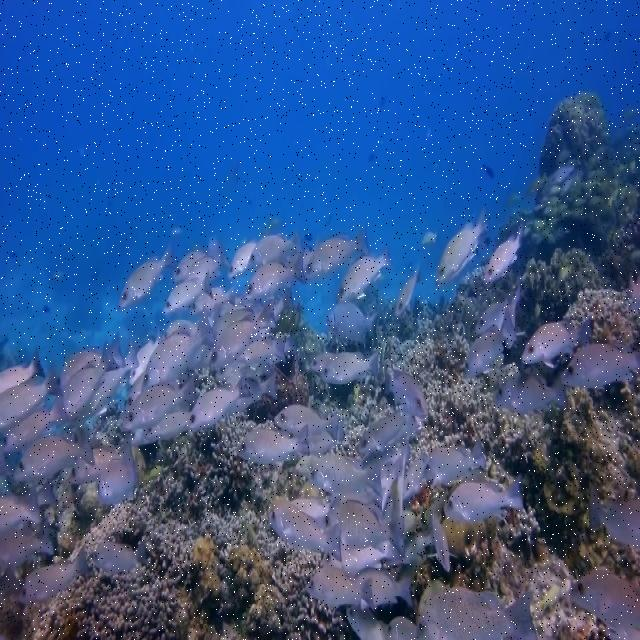fish: (141, 302, 219, 389), (418, 586, 540, 639), (563, 564, 639, 639), (309, 454, 384, 523), (266, 502, 344, 562), (209, 304, 277, 372), (14, 425, 96, 481), (117, 376, 197, 430), (325, 499, 403, 554), (117, 240, 179, 308), (17, 547, 91, 603), (63, 342, 119, 416), (445, 475, 523, 528), (299, 221, 368, 280), (81, 343, 136, 417), (438, 205, 490, 283), (462, 310, 522, 376), (235, 423, 312, 473), (189, 371, 253, 430), (585, 480, 639, 549), (522, 317, 595, 368), (560, 344, 639, 391), (1, 362, 62, 422), (304, 565, 378, 612), (335, 243, 392, 303), (423, 438, 488, 490), (495, 372, 569, 415), (1, 402, 67, 450), (273, 403, 344, 442), (380, 366, 427, 422), (97, 440, 138, 504), (357, 411, 414, 456), (485, 222, 523, 284), (63, 446, 121, 486), (163, 268, 212, 314), (319, 349, 381, 385), (475, 284, 520, 332), (327, 304, 378, 345), (91, 540, 150, 575), (246, 262, 296, 301), (1, 350, 43, 390), (251, 231, 301, 264), (129, 335, 158, 384), (394, 267, 421, 317), (228, 241, 258, 281), (402, 456, 428, 499)
